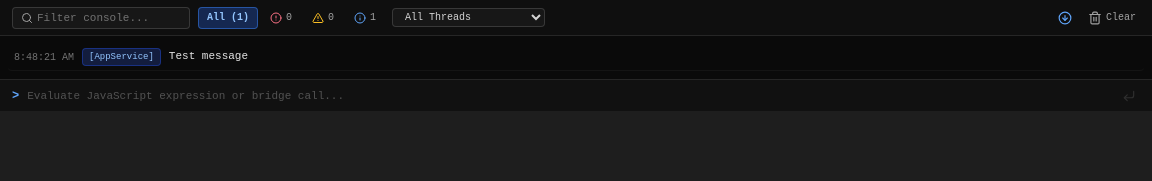
Test case: Milestone 4: Multi-Lane Debugger & Storage Suite › 2. UnifiedConsole Component › clears console logs when clear button is clicked
Expected: the text "Test message" is shown, [169,48,248,64]
Click the button "Clear".
click(1112, 18)  # box [1084,6,1140,30]
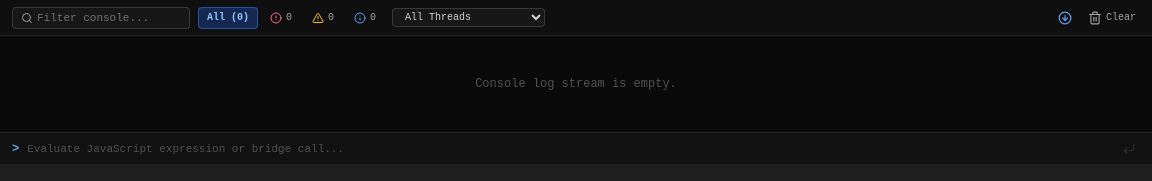
Expected: the text "Console log stream is empty." is shown, [475,77,677,91]
